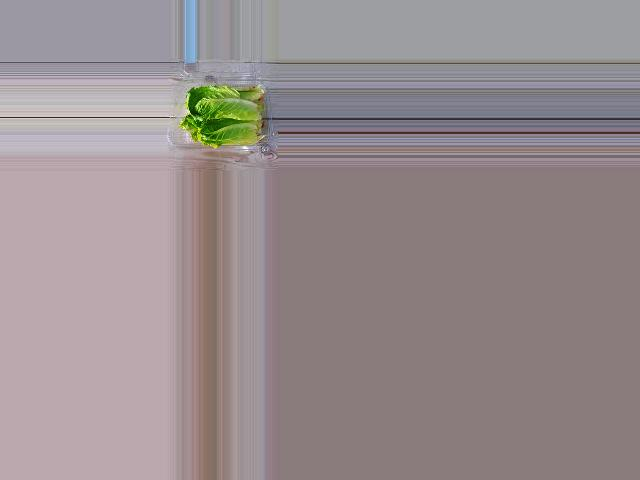lettuce: (180, 85, 260, 147)
